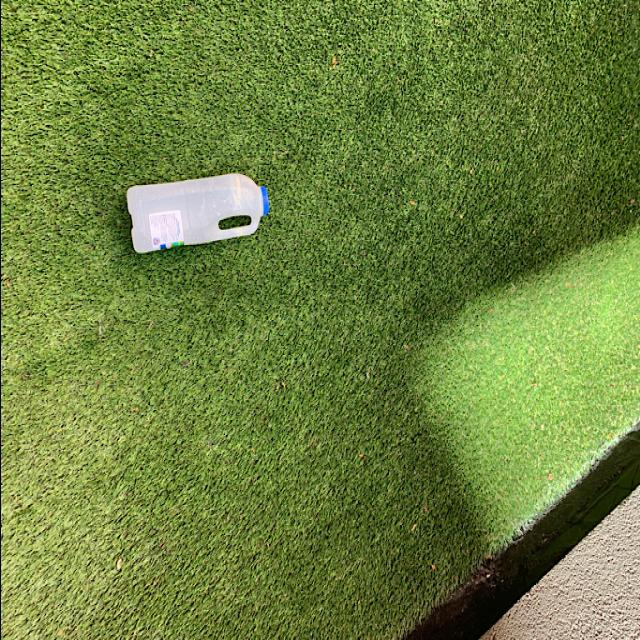HDPEM: (126, 170, 270, 255)
